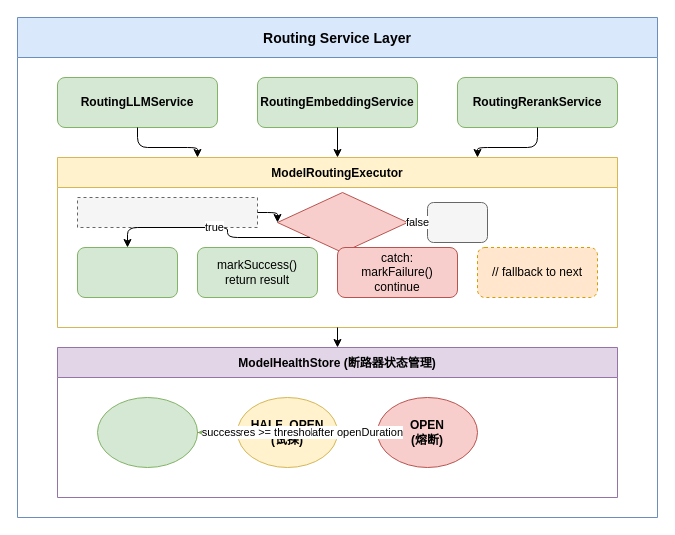
This 675x535 diagram has some shape labels left out. Each missing label, with the centre of its shape:
"CLOSED (正常)" belongs at [147,432].
"for each target in candidates:" belongs at [167,212].
"healthStore.allowCall()?" belongs at [342,222].
"skip" belongs at [457,222].
"try: caller.call()" belongs at [127,272].
